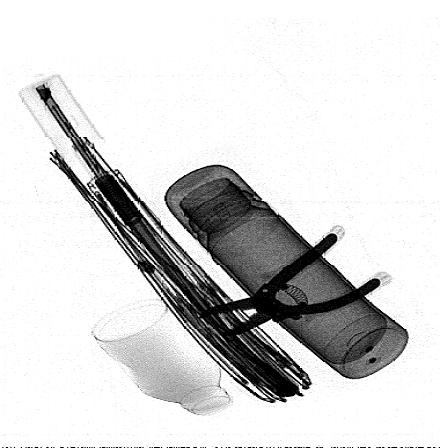Pliers: (197, 231, 381, 338)
